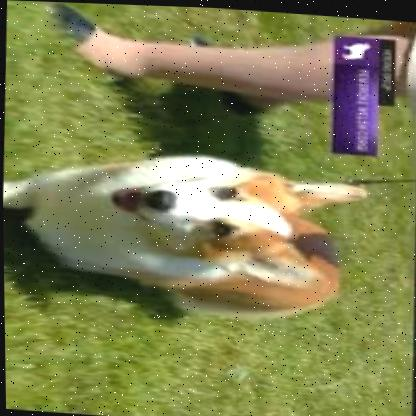dog: (2, 138, 372, 328)
